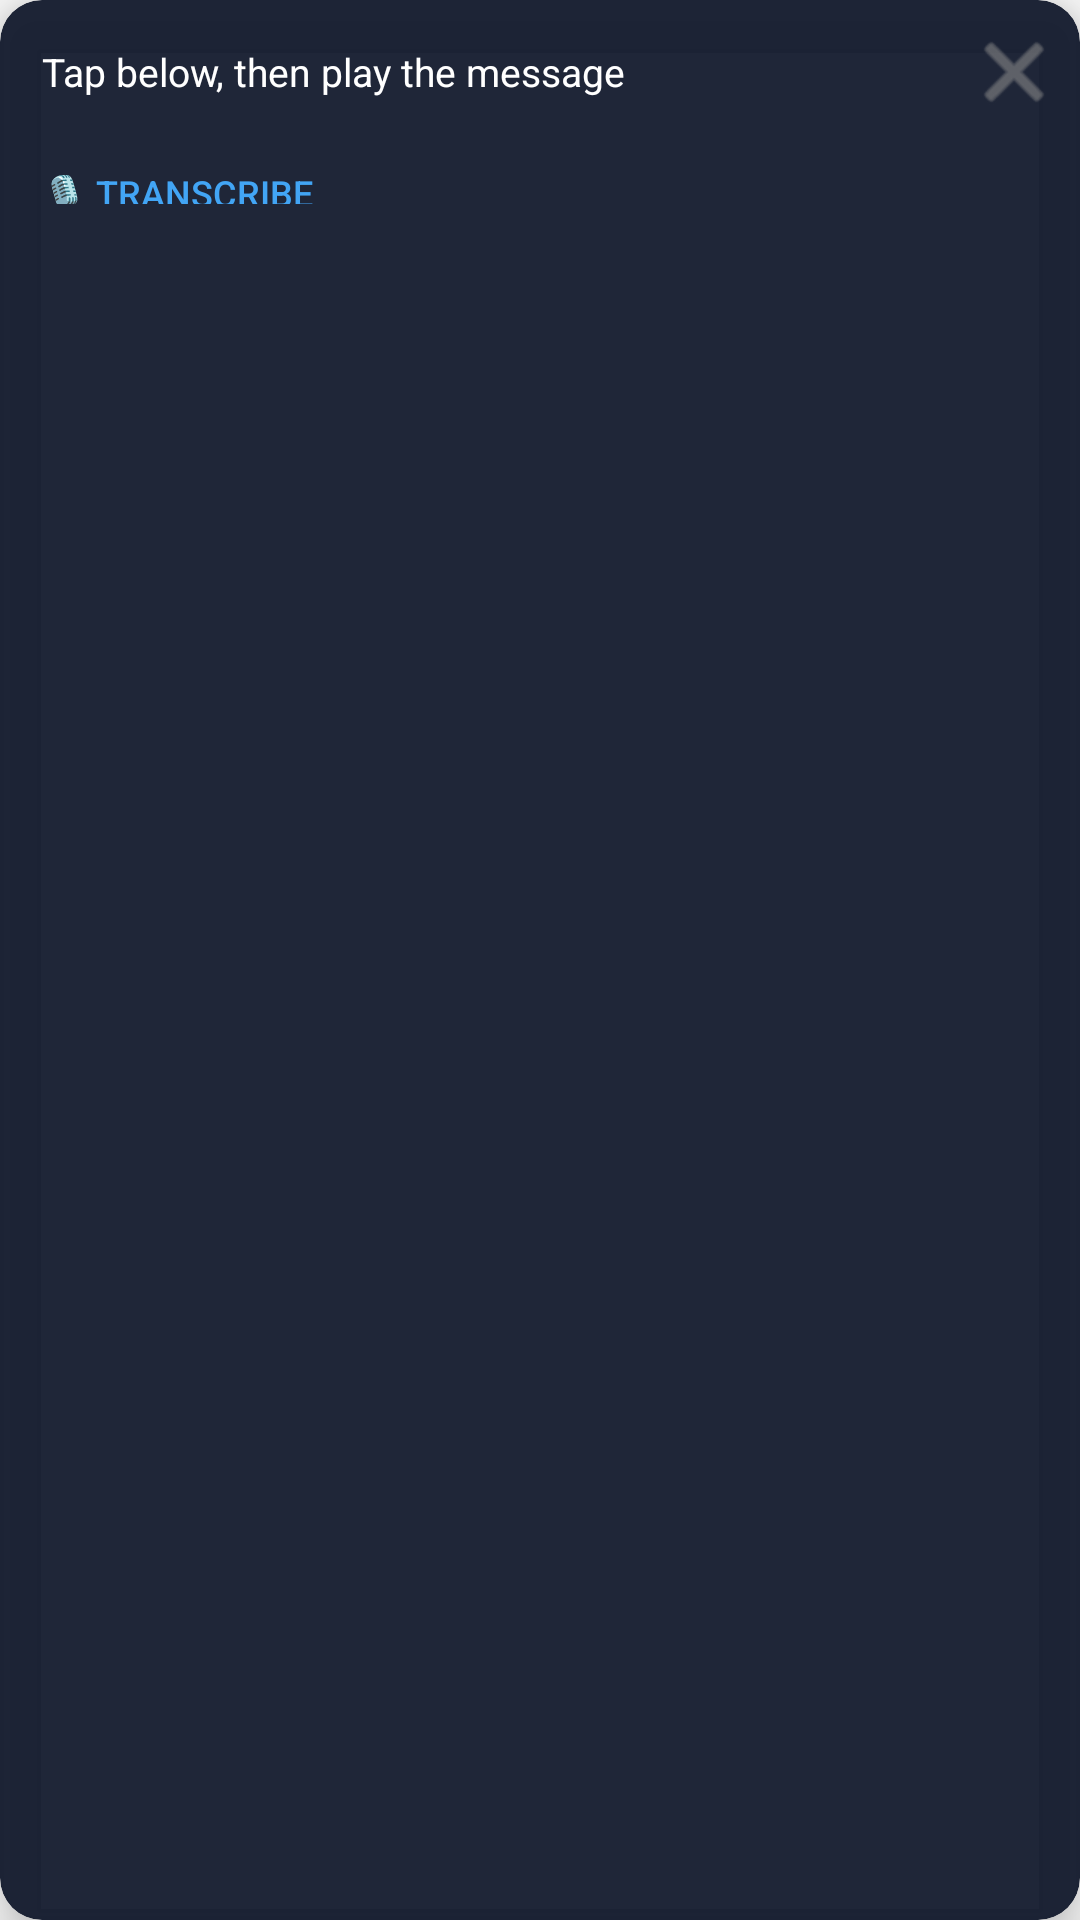

Icons on this 1080*1920 Android screen, each with the point to tap as (x,y):
Dismiss: (1013,72)
